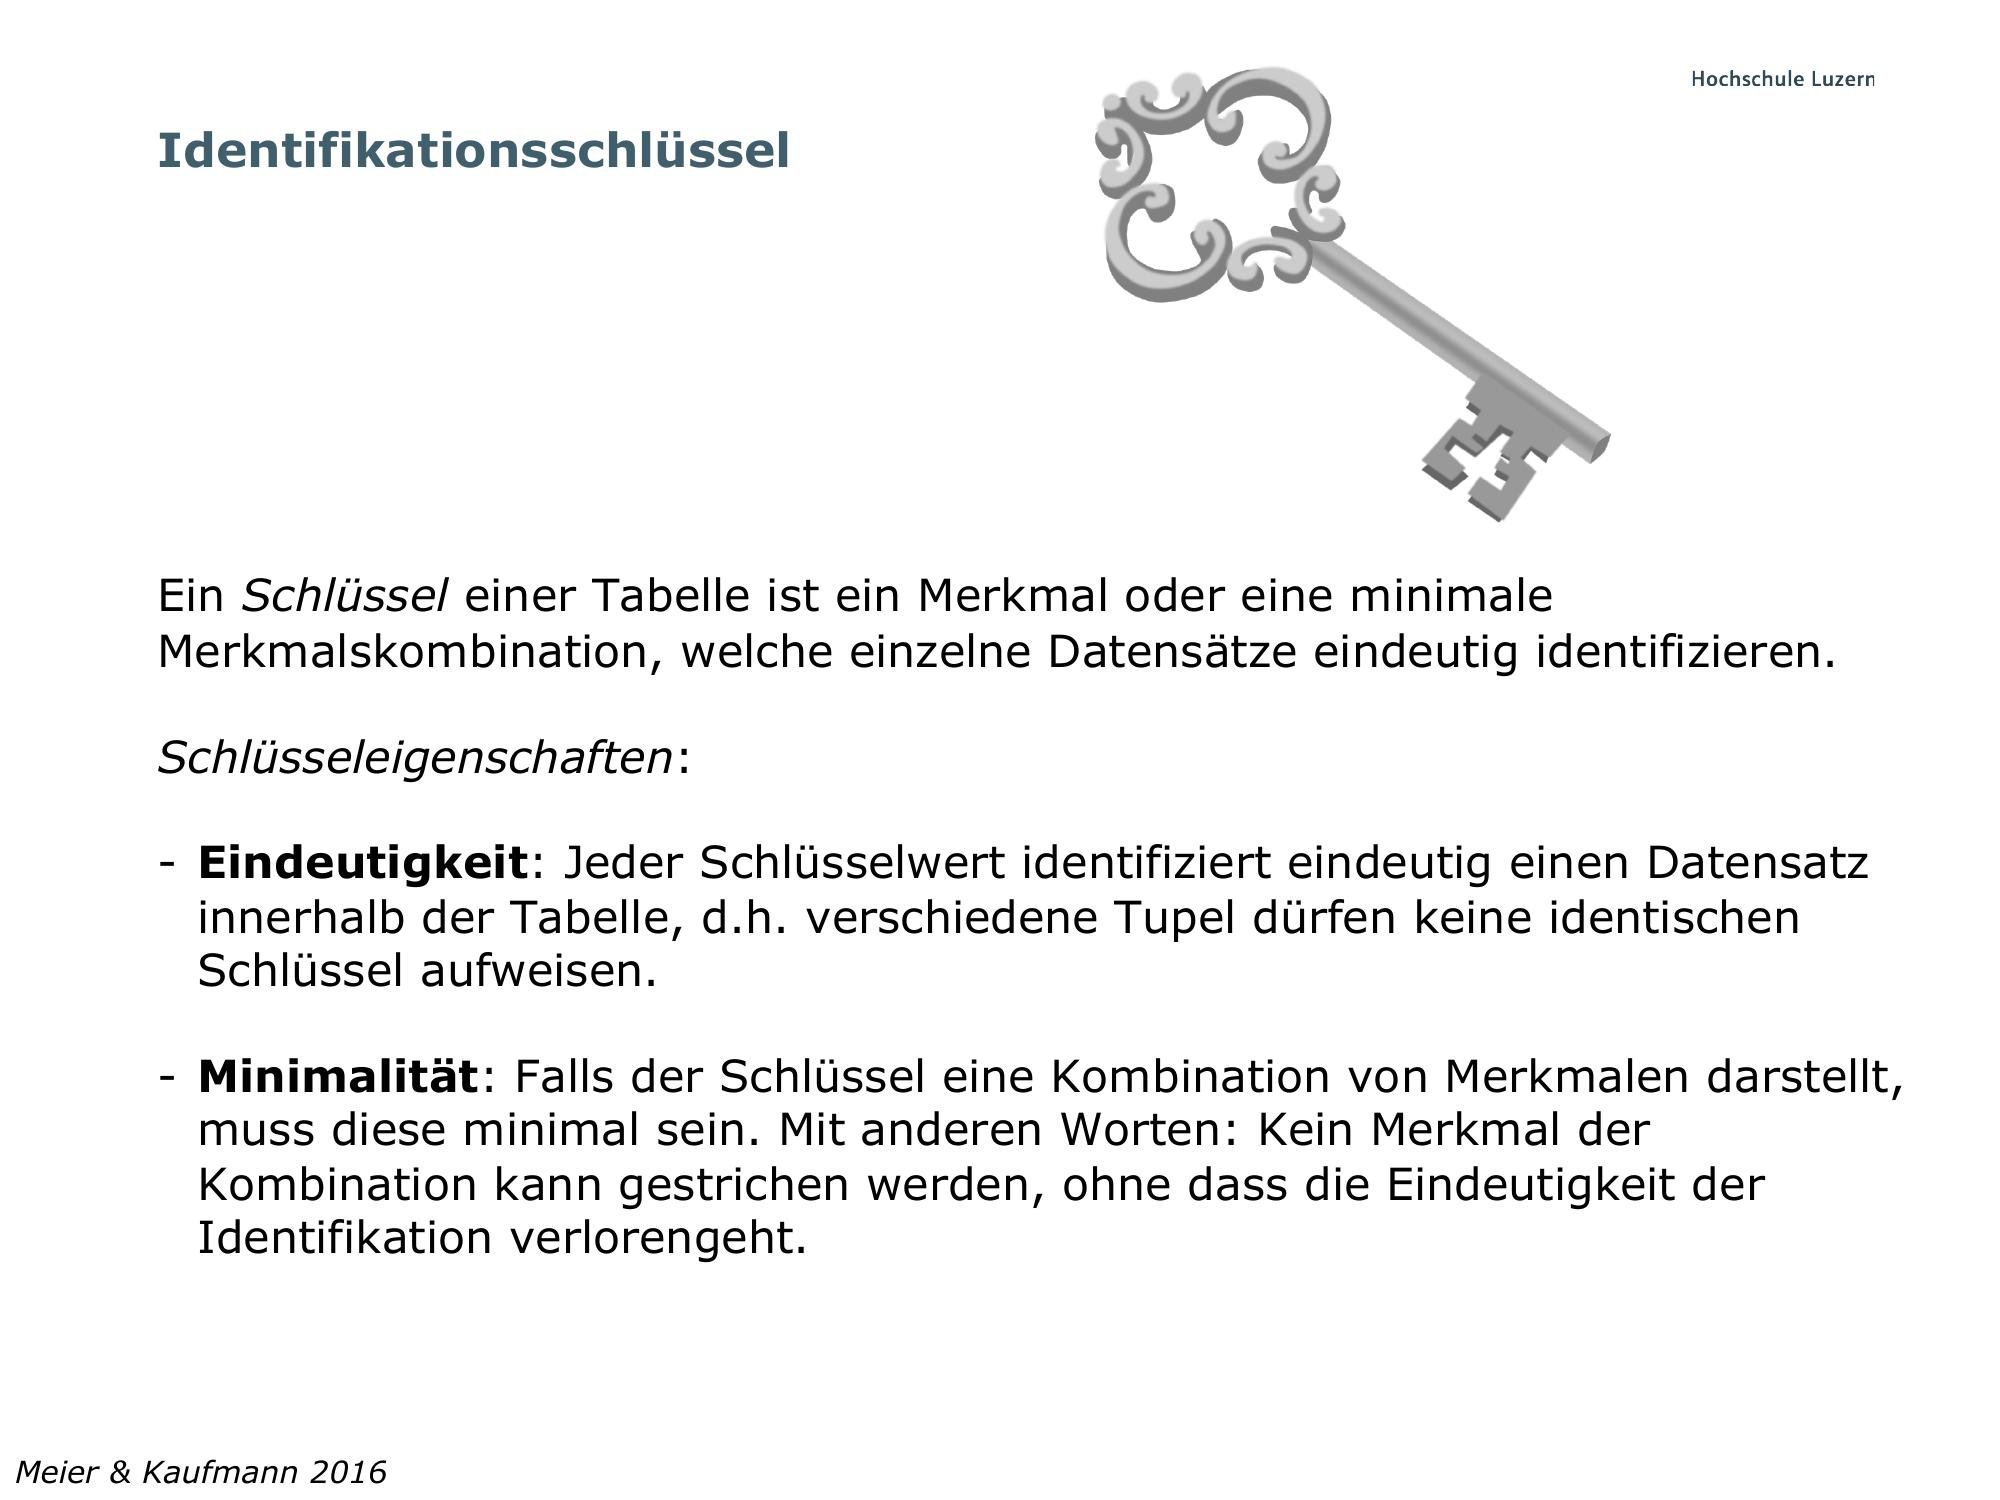Title: (150, 109, 806, 184)
